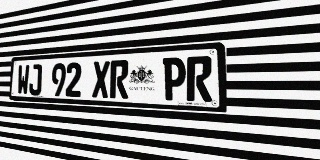2: (66, 62, 81, 97)
9: (51, 63, 66, 96)
J: (29, 64, 42, 96)
P: (162, 57, 186, 101)
R: (186, 56, 212, 102), (110, 60, 129, 99)
W: (17, 65, 30, 95)
X: (92, 61, 110, 98)
